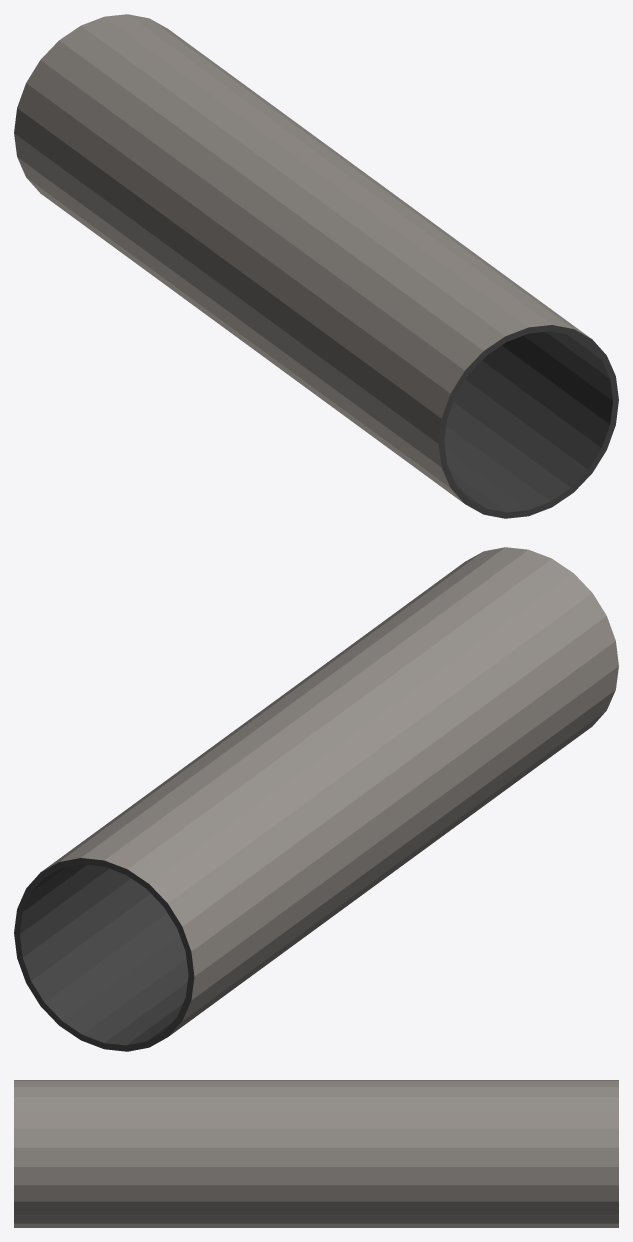
The model's file is tp-pipe.glb.
The picture shows the model from 3 angles, top to bottom: view 1: azimuth 30°, elevation 25°; view 2: azimuth 150°, elevation 25°; view 3: azimuth 270°, elevation 25°; orthographic projection. The views are drawn at different scales.
Parts seen in each view (by area): view 1: tp-pipe; view 2: tp-pipe; view 3: tp-pipe.
Boxes of the visible parts, <box> form: tp-pipe: <box>14,14,618,518</box>; tp-pipe: <box>14,547,618,1051</box>; tp-pipe: <box>14,1080,618,1227</box>.
Size of what is drawn, in the model's own units: 15.32 by 15.32 by 62.42.
Materials: 1 (1 with a texture image).
